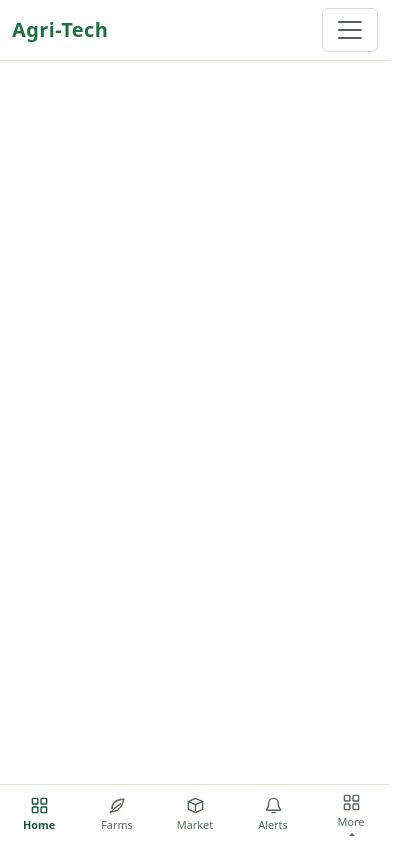
it: AppNavbar › shows mobile tabs and exposes secondary destinations in More
Click the button "More" at (351, 814), box [312, 789, 390, 840]
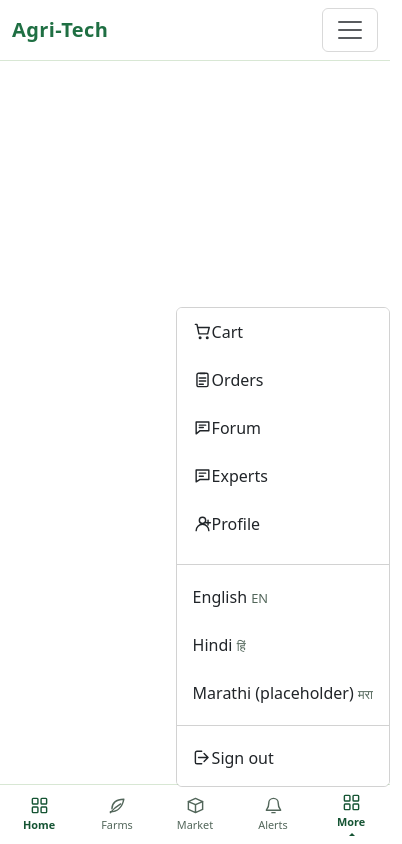
Check: the button "Hindi हिं" is shown, box [177, 621, 389, 669]
Check: the button "Sign out" is shown, box [177, 734, 389, 782]
